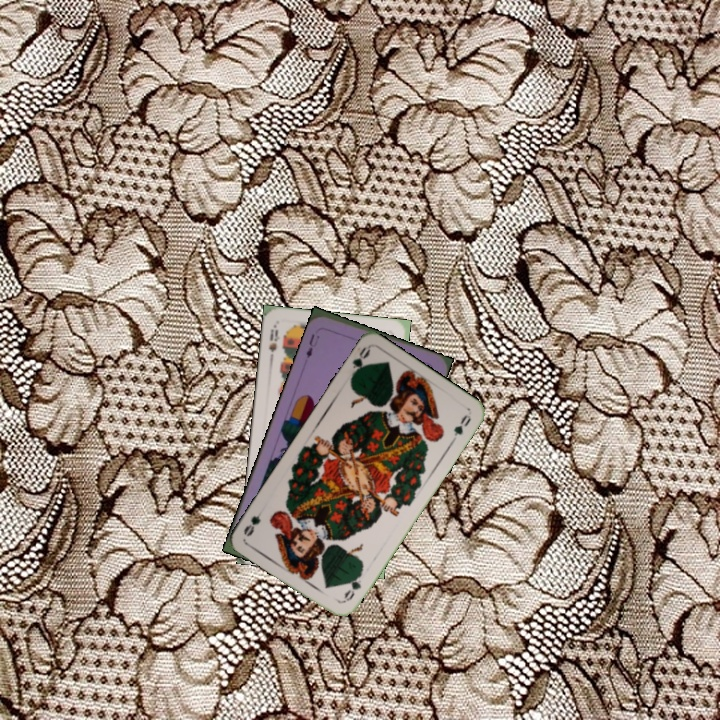EU: (302, 330, 322, 360)
GO: (347, 343, 373, 383), (340, 567, 365, 604)
S8: (265, 321, 282, 361)
